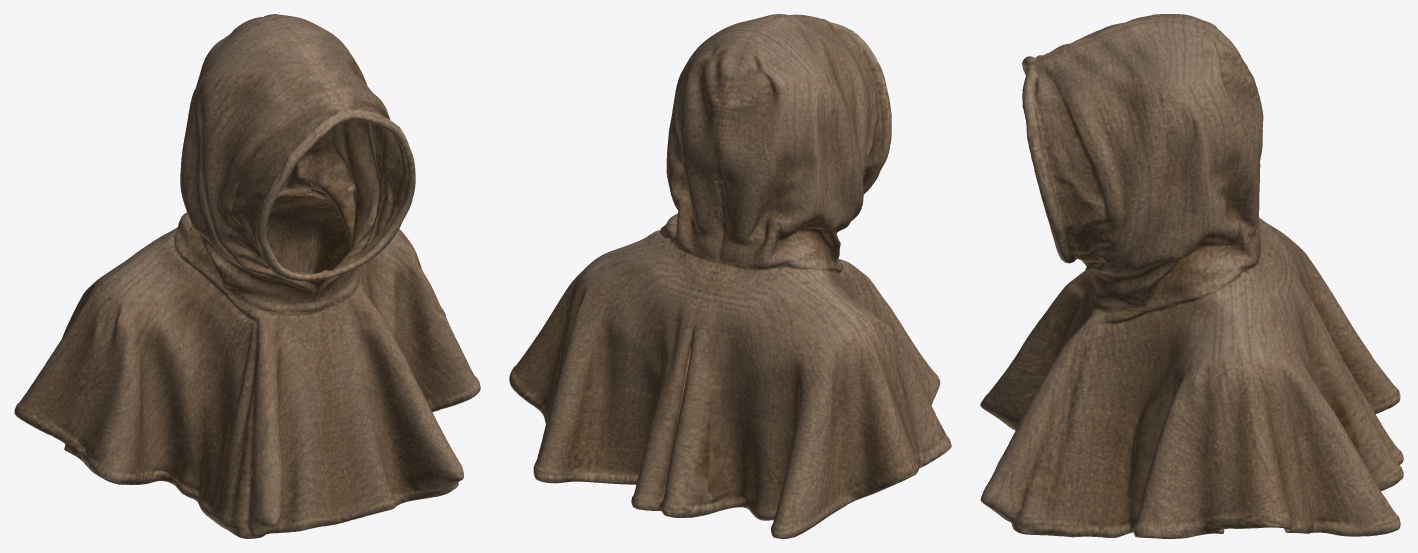
File: hood.glb
3 renders of one model, left to right at view 1: azimuth 30°, elevation 25°; view 2: azimuth 150°, elevation 25°; view 3: azimuth 270°, elevation 25°, orthographic. The views are drawn at different scales.
Visible parts, largest first — view 1: geometry_0; view 2: geometry_0; view 3: geometry_0.
Boxes of the visible parts, left/top/right/bottom form: geometry_0: left=14, top=14, right=480, bottom=538; geometry_0: left=509, top=14, right=951, bottom=538; geometry_0: left=980, top=14, right=1403, bottom=538.
Bounding box in the file's own units: 0.9655 × 0.9855 × 0.7977.
Materials: 1 (1 with a texture image).
